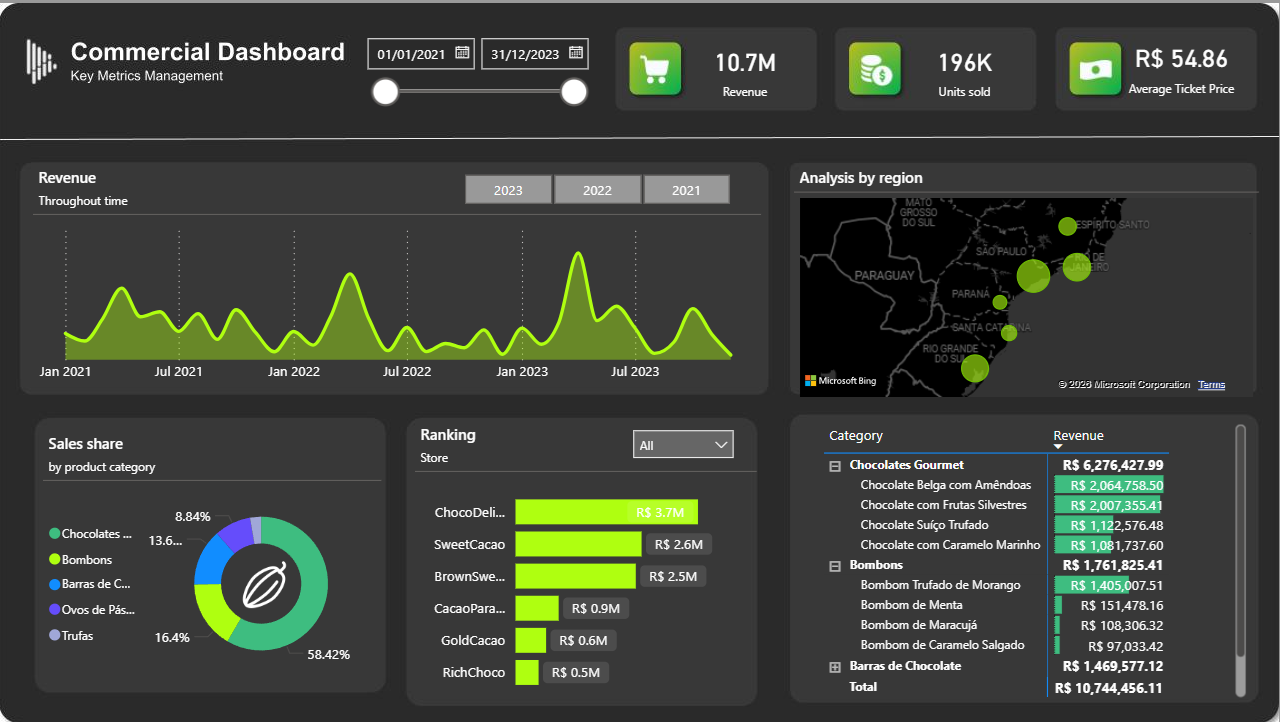

This screenshot's page, from the dashboard's own definition file:
{"tool":"powerbi","page":{"name":"Page 1","canvas":[1280,720],"ordinal":0},"visuals":[{"type":"card","fields":{"Values":["Vendas.Receita"]},"box":[694,67.2,112.8,64.5],"z":0},{"type":"card","fields":{"Values":["Vendas.Qt Vendida"]},"box":[890.1,69,113.7,60.9],"z":1000},{"type":"card","fields":{"Values":["Vendas.Preco medio por venda"]},"box":[1079.1,60.9,124.5,70.7],"z":2000},{"type":"areaChart","title":"Revenue","fields":{"Category":["Vendas.Data.Variation.Date Hierarchy.Year","Vendas.Data.Variation.Date Hierarchy.Quarter","Vendas.Data.Variation.Date Hierarchy.Month","Vendas.Data.Variation.Date Hierarchy.Day"],"Y":["Vendas.Receita"]},"box":[112.8,186.3,651.9,200.6],"z":3000},{"type":"map","title":"Analysis by region","fields":{"Category":["Lojas.Cidade"],"Size":["Vendas.Receita"]},"box":[794.3,186.3,415.5,209.6],"z":4000},{"type":"donutChart","title":"Sales share","fields":{"Y":["Vendas.Receita"],"Category":["Produtos.Categoria"]},"box":[121.8,424.5,302.7,225.7],"z":5000},{"type":"barChart","title":"Ranking","fields":{"Category":["Lojas.Loja"],"Y":["Vendas.Receita"]},"box":[454.9,416.4,306.3,249.9],"z":6000},{"type":"pivotTable","title":"Category","fields":{"Rows":["Produtos.Categoria","Produtos.Produto"],"Values":["Vendas.Receita"]},"box":[815.8,411.9,387.8,254.3],"z":7000},{"type":"image","box":[299.1,537.3,42.1,46.6],"z":8000},{"type":"slicer","fields":{"Values":["Vendas.Data.Variation.Date Hierarchy.Year"]},"box":[473.7,186.3,287.5,36.7],"z":10000},{"type":"slicer","fields":{"Values":["Lojas.Loja"]},"box":[640.3,411.9,110.1,36.7],"z":11000},{"type":"slicer","fields":{"Values":["Vendas.Data"]},"box":[399.4,60.9,218.5,85.1],"z":11001}]}

Visuals, with their boxes in screenshot pixels (x1, y1, x2, y2), scaled from the page's 1280x720 canvas onto the 1280x722 screenshot:
card - Vendas.Receita: bbox=[694, 67, 807, 132]
card - Vendas.Qt Vendida: bbox=[890, 69, 1004, 130]
card - Vendas.Preco medio por venda: bbox=[1079, 61, 1204, 132]
"Revenue" areaChart: bbox=[113, 187, 765, 388]
"Analysis by region" map: bbox=[794, 187, 1210, 397]
"Sales share" donutChart: bbox=[122, 426, 424, 652]
"Ranking" barChart: bbox=[455, 418, 761, 668]
"Category" pivotTable: bbox=[816, 413, 1204, 668]
image: bbox=[299, 539, 341, 586]
slicer - Vendas.Data.Variation.Date Hierarchy.Year: bbox=[474, 187, 761, 224]
slicer - Lojas.Loja: bbox=[640, 413, 750, 450]
slicer - Vendas.Data: bbox=[399, 61, 618, 146]
